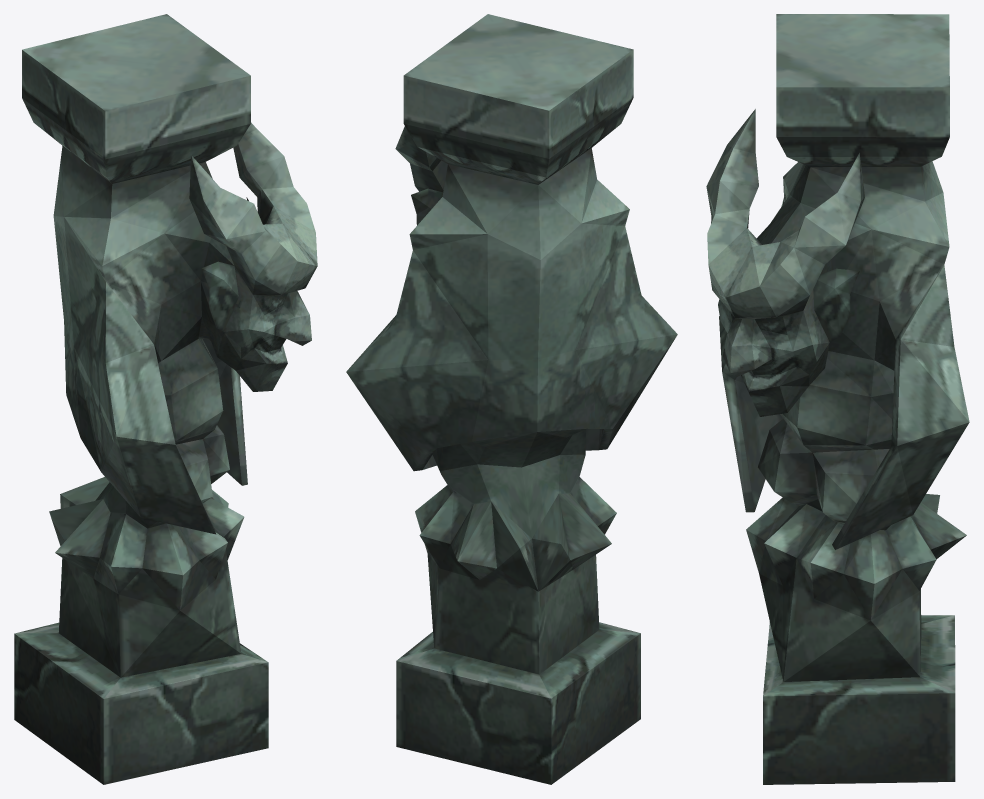
Rendered from crypt_column_gargoyle01.fbx.
3 views of the same model, side by side, from view 1: azimuth 30°, elevation 25°; view 2: azimuth 150°, elevation 25°; view 3: azimuth 270°, elevation 25° (orthographic). The views are drawn at different scales.
Parts seen in each view (by area): view 1: obj0.073; view 2: obj0.073; view 3: obj0.073.
Boxes of the visible parts, x1,y1,x2,y2 form: obj0.073: [14, 14, 317, 784]; obj0.073: [346, 14, 677, 784]; obj0.073: [706, 14, 969, 784].
Size of the model in its own units: 1.98 by 5.73 by 1.98.
